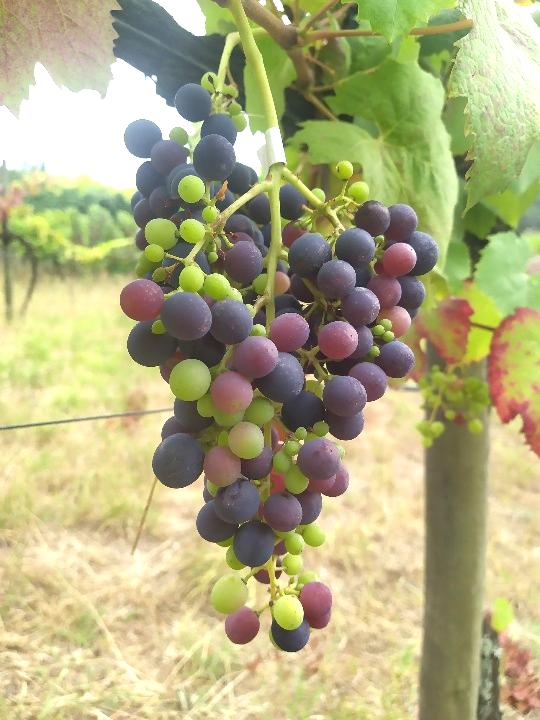grape: (117, 80, 442, 656)
